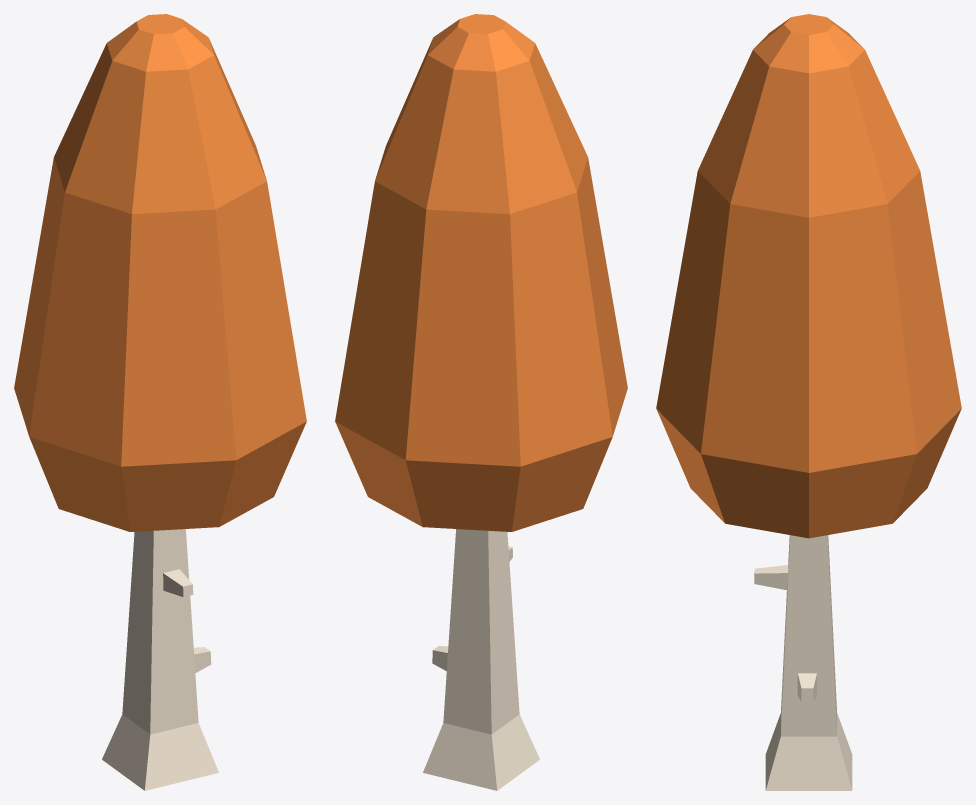
Rendered from tree_cone_fall.dae.
3 renders of one model, left to right at view 1: azimuth 30°, elevation 25°; view 2: azimuth 150°, elevation 25°; view 3: azimuth 270°, elevation 25°, orthographic.
Visible parts, largest first — view 1: tree_cone_fall; view 2: tree_cone_fall; view 3: tree_cone_fall.
Boxes of the visible parts, box(x1,y1,x2,y2) form: tree_cone_fall: box(14, 14, 306, 790); tree_cone_fall: box(335, 14, 627, 790); tree_cone_fall: box(656, 14, 961, 790).
Size of the model in its own units: 0.5297 by 1.43 by 0.5297.
